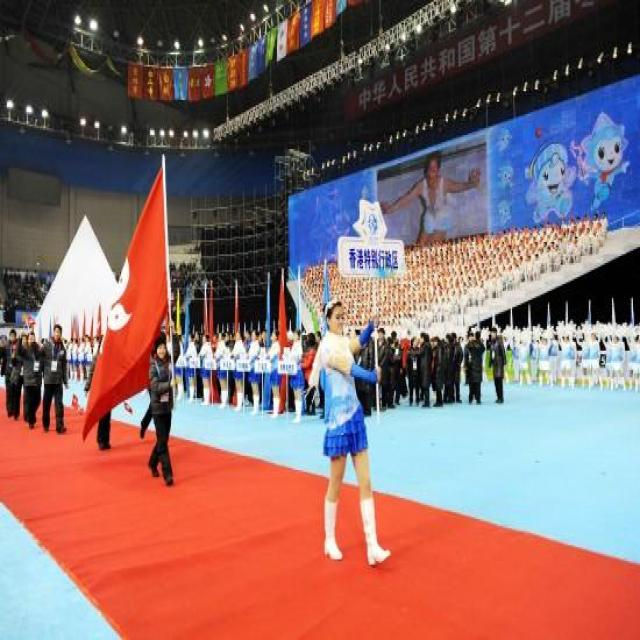non-fight: (308, 293, 388, 570), (380, 151, 481, 244), (146, 330, 179, 487), (38, 320, 70, 433), (88, 342, 113, 447), (1, 270, 50, 319), (19, 325, 41, 431), (0, 327, 22, 422), (486, 326, 511, 404), (139, 350, 161, 438), (352, 333, 374, 418), (286, 329, 305, 422), (464, 329, 484, 404), (265, 330, 282, 415), (300, 336, 318, 414), (377, 330, 393, 410), (434, 335, 452, 406), (167, 260, 203, 295), (248, 332, 263, 412), (313, 334, 327, 416), (417, 334, 432, 406), (389, 336, 404, 408), (231, 334, 245, 411), (199, 334, 214, 405), (214, 332, 228, 408), (408, 336, 423, 406), (184, 334, 198, 401), (450, 332, 463, 402), (584, 332, 600, 388), (559, 334, 576, 386), (511, 335, 527, 385), (243, 339, 255, 405), (538, 335, 553, 387), (572, 336, 586, 388), (194, 339, 205, 402), (611, 335, 623, 390), (227, 341, 237, 405), (621, 336, 633, 389), (600, 342, 613, 388), (528, 337, 540, 383), (78, 336, 89, 381), (90, 335, 100, 381), (70, 338, 80, 380), (633, 336, 640, 390), (175, 366, 184, 402)
